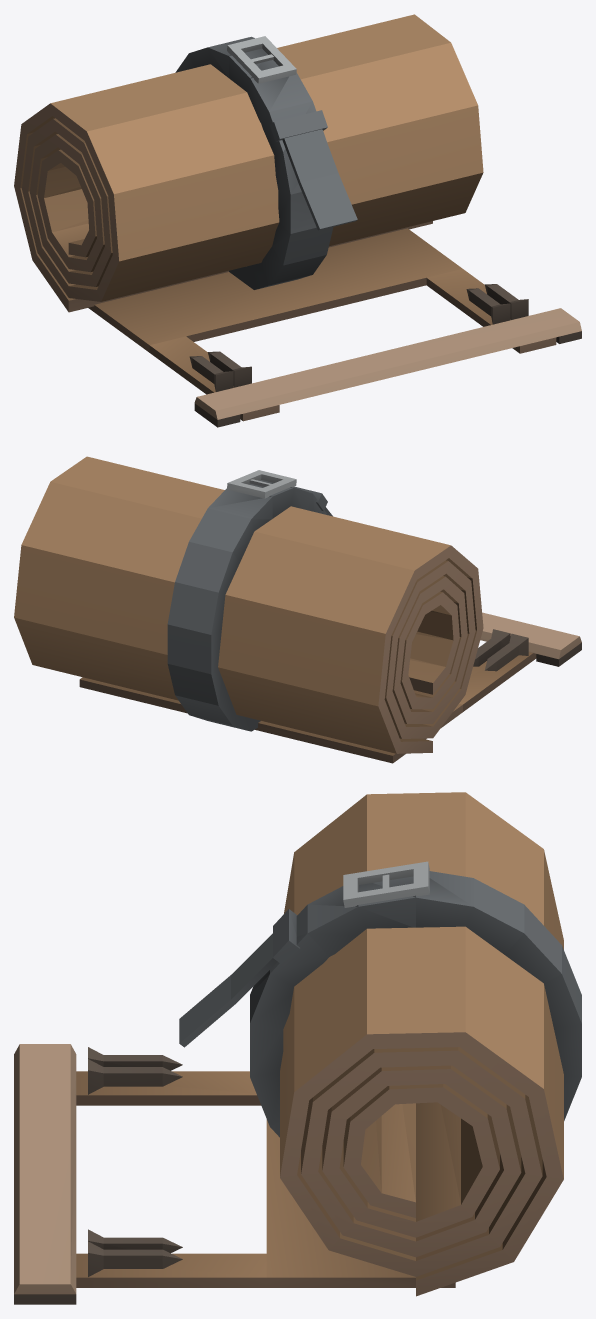
Rendered from ladder.glb.
The picture shows the model from 3 angles, top to bottom: view 1: azimuth 30°, elevation 25°; view 2: azimuth 150°, elevation 25°; view 3: azimuth 270°, elevation 25°; orthographic projection. The views are drawn at different scales.
Visible parts, largest first — view 1: ladder.001; view 2: ladder.001; view 3: ladder.001.
Boxes of the visible parts, x1=… form: ladder.001: x1=14, y1=14, x2=581, y2=427; ladder.001: x1=14, y1=456, x2=581, y2=763; ladder.001: x1=14, y1=792, x2=581, y2=1304.
Size of the model in its own units: 1 by 0.6038 by 1.
